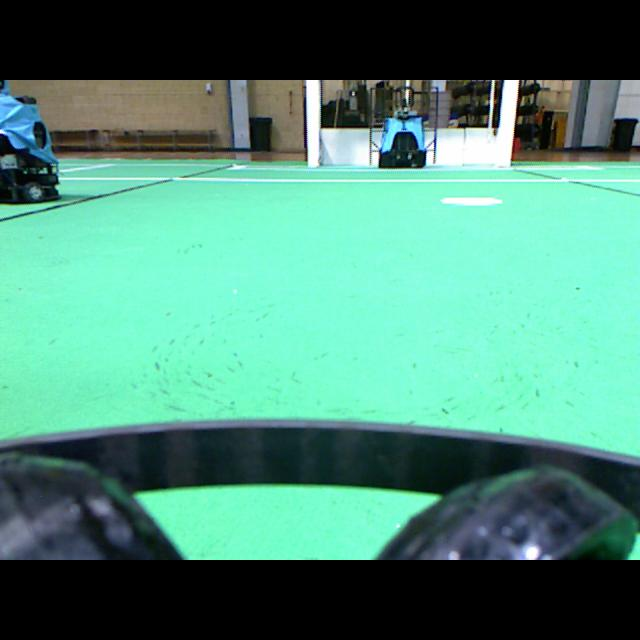goal: (495, 80, 518, 167), (306, 80, 320, 167)
